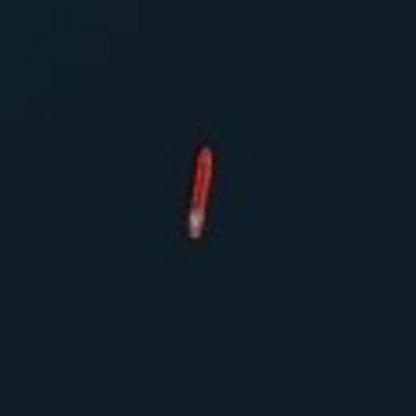ship: (175, 140, 220, 244)
